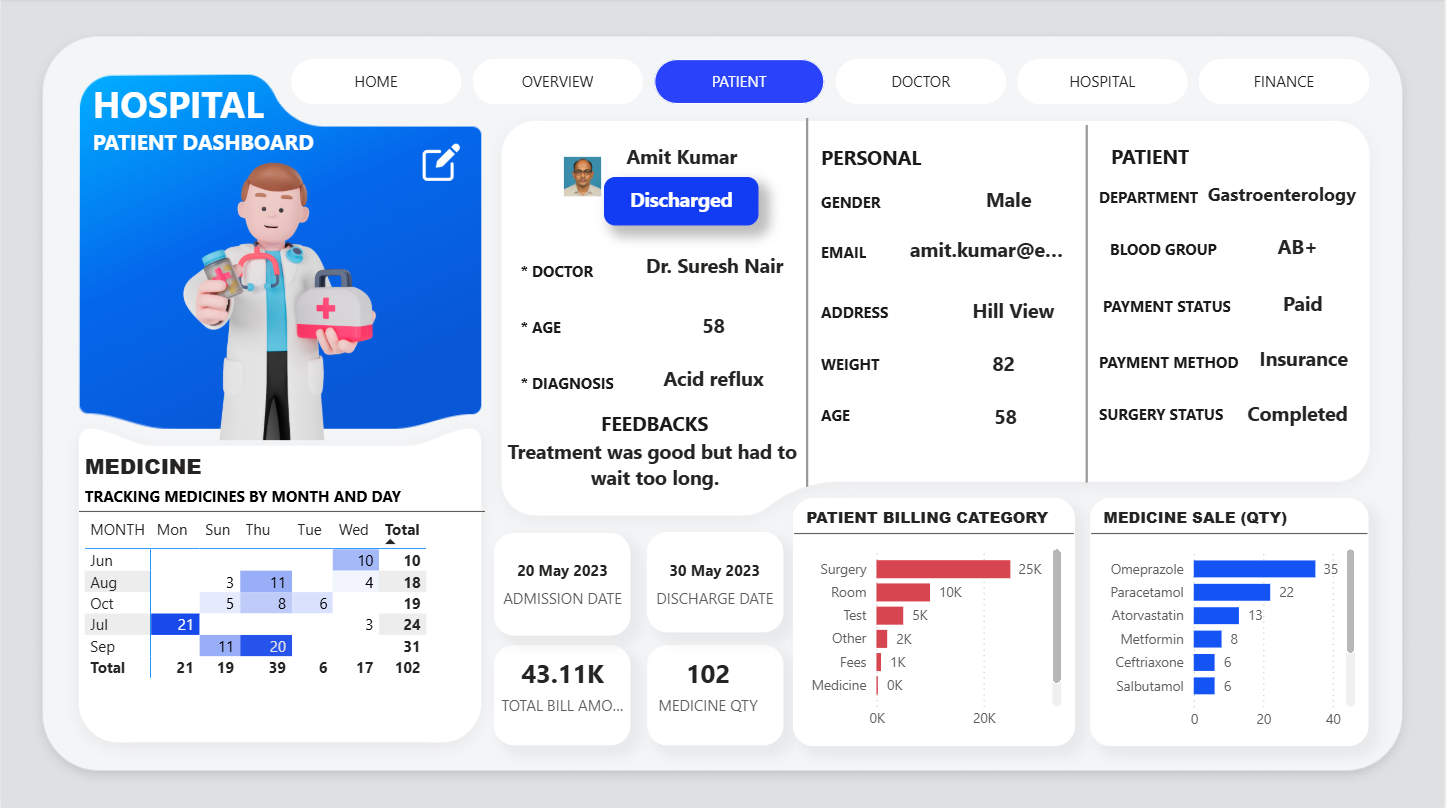

This screenshot's page, from the dashboard's own definition file:
{"tool":"powerbi","page":{"name":"PATIENT","canvas":[1280,720],"ordinal":2},"visuals":[{"type":"image","box":[100.7,117.1,280.1,280.1],"z":0,"group":"g1"},{"type":"shape","box":[572.4,573.6,121.1,89.3],"z":0},{"type":"textbox","box":[76.4,66.5,221.8,101.2],"z":1000,"group":"g1"},{"type":"shape","box":[437.2,573.6,121.1,89.3],"z":1000},{"type":"image","box":[369.1,123.9,42.8,43.8],"z":2000,"group":"g1"},{"type":"shape","box":[437,474,121,91],"z":2000},{"type":"pivotTable","title":"MEDICINE","fields":{"Values":["Sum(medicine_patient.qty)"],"Columns":["CALENDAR.DAY"],"Rows":["CALENDAR.MONTH"]},"box":[69,401,360,235],"z":3000,"group":"g1"},{"type":"shape","box":[572.4,473.7,121.1,89.3],"z":3000},{"type":"group","id":"g1","title":"Group 1","box":[69,66.5,360,569.5],"z":4000},{"type":"clusteredBarChart","title":"MEDICINE SALE (QTY) ","fields":{"Y":["Sum(medicine_patient.qty)"],"Category":["medical_stock_info.name"]},"box":[965.4,443.3,247,220],"z":5000},{"type":"clusteredBarChart","title":"PATIENT BILLING CATEGORY","fields":{"Y":["Sum(Bills.Value)"],"Category":["Bills.Charges_Type"]},"box":[702.5,443.5,250,219.7],"z":6000},{"type":"card","fields":{"Values":["_MEASURES.TOTAL_BILL_AMOUNT"]},"box":[437.1,573.7,121.5,70],"z":7000},{"type":"card","fields":{"Values":["_MEASURES.TOTAL_MED_SALE_QTY"]},"box":[565,574,124,70],"z":8000},{"type":"card","fields":{"Values":["Min(patient_details.patient_discharge_date)"]},"box":[572,483,122,70],"z":9000},{"type":"card","fields":{"Values":["Min(patient_details.patient_admission_date)"]},"box":[437.1,483.3,121.5,70],"z":10000},{"type":"cardVisual","fields":{"Data":["Min(patient_details.patient_Img)"]},"box":[445,95,104,127],"z":11000},{"type":"card","fields":{"Values":["Min(patient_details.patient_status)"]},"box":[535,159,137,43],"z":12000},{"type":"shape","box":[461,222,71,41],"z":13000},{"type":"shape","box":[461,321,91,41],"z":14000},{"type":"shape","box":[461,271,71,41],"z":15000},{"type":"card","fields":{"Values":["Min(patient_details.doctor_name)"]},"box":[554,222,157,35],"z":16000},{"type":"card","fields":{"Values":["Sum(patient_details.patient_age)"]},"box":[558,275,148,35],"z":17000},{"type":"card","fields":{"Values":["Min(appointment.diagnosis)"]},"box":[558,321,148,36],"z":18000},{"type":"card","fields":{"Values":["Min(patient_details.satisfaction_feedback)"]},"box":[436,375,287,75],"z":19000},{"type":"shape","box":[532,356,96,41],"z":20000},{"type":"shape","box":[694,106,41,327],"z":21000},{"type":"shape","box":[726.7,160.3,71.6,40.3],"z":22000},{"type":"shape","box":[726.7,258,91.7,41.3],"z":23000},{"type":"shape","box":[726.7,204.6,71.6,41.3],"z":24000},{"type":"card","fields":{"Values":["Min(patient_details.patient_gender)"]},"box":[815,163,157,35],"z":25000},{"type":"card","fields":{"Values":["Min(patient_details.patient_email)"]},"box":[798.2,207.6,151.2,35.3],"z":26000},{"type":"card","fields":{"Values":["Min(patient_details.patient_address)"]},"box":[821,261,148,36],"z":27000},{"type":"shape","box":[977,254,120,38],"z":28000},{"type":"shape","box":[974,296,125,52],"z":29000},{"type":"card","fields":{"Values":["Min(Bills.payment_status)"]},"box":[1076,255,157,35],"z":30000},{"type":"card","fields":{"Values":["Min(Bills.payment_method)"]},"box":[1081,304,148,35],"z":31000},{"type":"shape","box":[942.4,112.9,40.3,317.5],"z":32000},{"type":"shape","box":[974,156,91,41],"z":33000},{"type":"shape","box":[983,202,123,41],"z":34000},{"type":"shape","box":[726.7,304.4,71.6,40.3],"z":35000},{"type":"card","fields":{"Values":["Min(patient_details.doctor_department)"]},"box":[1059,159,154,35],"z":36000},{"type":"card","fields":{"Values":["Sum(patient_details.patient_weight)"]},"box":[815,309,148,35],"z":37000},{"type":"shape","box":[726.7,349.7,71.6,41.3],"z":38000},{"type":"card","fields":{"Values":["Sum(patient_details.patient_age)"]},"box":[817,356,148,35],"z":39000},{"type":"card","fields":{"Values":["Min(patient_details.patient_name)"]},"box":[525.1,125,157.2,35.3],"z":40000},{"type":"shape","box":[984,119,71,41],"z":41000},{"type":"shape","box":[727,122,98,36],"z":42000},{"type":"card","fields":{"Values":["Min(patient_details.patient_blood_group)"]},"box":[1076,205,148,35],"z":43000},{"type":"card","fields":{"Values":["Min(patient_details.surgery_status)"]},"box":[1076,353,148,35],"z":44000},{"type":"shape","box":[974,342,125,52],"z":45000},{"type":"pageNavigator","box":[257,54.4,957.5,40.3],"z":47000}]}

Visuals, with their boxes in screenshot pixels (x1, y1, x2, y2), scaled from the page's 1280x720 canvas onto the 1446x808 screenshot:
image: pyautogui.locateOnScreen(114, 131, 430, 446)
shape: pyautogui.locateOnScreen(647, 644, 783, 744)
textbox: pyautogui.locateOnScreen(86, 75, 337, 188)
shape: pyautogui.locateOnScreen(494, 644, 631, 744)
image: pyautogui.locateOnScreen(417, 139, 465, 188)
shape: pyautogui.locateOnScreen(494, 532, 630, 634)
"MEDICINE" pivotTable: pyautogui.locateOnScreen(78, 450, 485, 714)
shape: pyautogui.locateOnScreen(647, 532, 783, 632)
"Group 1" group: pyautogui.locateOnScreen(78, 75, 485, 714)
"MEDICINE SALE (QTY) " clusteredBarChart: pyautogui.locateOnScreen(1091, 497, 1370, 744)
"PATIENT BILLING CATEGORY" clusteredBarChart: pyautogui.locateOnScreen(794, 498, 1076, 744)
card - _MEASURES.TOTAL_BILL_AMOUNT: pyautogui.locateOnScreen(494, 644, 631, 722)
card - _MEASURES.TOTAL_MED_SALE_QTY: pyautogui.locateOnScreen(638, 644, 778, 723)
card - Min(patient_details.patient_discharge_date): pyautogui.locateOnScreen(646, 542, 784, 621)
card - Min(patient_details.patient_admission_date): pyautogui.locateOnScreen(494, 542, 631, 621)
cardVisual - Min(patient_details.patient_Img): pyautogui.locateOnScreen(503, 107, 620, 249)
card - Min(patient_details.patient_status): pyautogui.locateOnScreen(604, 178, 759, 227)
shape: pyautogui.locateOnScreen(521, 249, 601, 295)
shape: pyautogui.locateOnScreen(521, 360, 624, 406)
shape: pyautogui.locateOnScreen(521, 304, 601, 350)
card - Min(patient_details.doctor_name): pyautogui.locateOnScreen(626, 249, 803, 288)
card - Sum(patient_details.patient_age): pyautogui.locateOnScreen(630, 309, 798, 348)
card - Min(appointment.diagnosis): pyautogui.locateOnScreen(630, 360, 798, 401)
card - Min(patient_details.satisfaction_feedback): pyautogui.locateOnScreen(493, 421, 817, 505)
shape: pyautogui.locateOnScreen(601, 400, 709, 446)
shape: pyautogui.locateOnScreen(784, 119, 830, 486)
shape: pyautogui.locateOnScreen(821, 180, 902, 225)
shape: pyautogui.locateOnScreen(821, 290, 925, 336)
shape: pyautogui.locateOnScreen(821, 230, 902, 276)
card - Min(patient_details.patient_gender): pyautogui.locateOnScreen(921, 183, 1098, 222)
card - Min(patient_details.patient_email): pyautogui.locateOnScreen(902, 233, 1073, 273)
card - Min(patient_details.patient_address): pyautogui.locateOnScreen(927, 293, 1095, 333)
shape: pyautogui.locateOnScreen(1104, 285, 1239, 328)
shape: pyautogui.locateOnScreen(1100, 332, 1242, 391)
card - Min(Bills.payment_status): pyautogui.locateOnScreen(1216, 286, 1393, 325)
card - Min(Bills.payment_method): pyautogui.locateOnScreen(1221, 341, 1388, 380)
shape: pyautogui.locateOnScreen(1065, 127, 1110, 483)
shape: pyautogui.locateOnScreen(1100, 175, 1203, 221)
shape: pyautogui.locateOnScreen(1110, 227, 1249, 273)
shape: pyautogui.locateOnScreen(821, 342, 902, 387)
card - Min(patient_details.doctor_department): pyautogui.locateOnScreen(1196, 178, 1370, 218)
card - Sum(patient_details.patient_weight): pyautogui.locateOnScreen(921, 347, 1088, 386)
shape: pyautogui.locateOnScreen(821, 392, 902, 439)
card - Sum(patient_details.patient_age): pyautogui.locateOnScreen(923, 400, 1090, 439)
card - Min(patient_details.patient_name): pyautogui.locateOnScreen(593, 140, 771, 180)
shape: pyautogui.locateOnScreen(1112, 134, 1192, 180)
shape: pyautogui.locateOnScreen(821, 137, 932, 177)
card - Min(patient_details.patient_blood_group): pyautogui.locateOnScreen(1216, 230, 1383, 269)
card - Min(patient_details.surgery_status): pyautogui.locateOnScreen(1216, 396, 1383, 435)
shape: pyautogui.locateOnScreen(1100, 384, 1242, 442)
pageNavigator: pyautogui.locateOnScreen(290, 61, 1372, 106)
